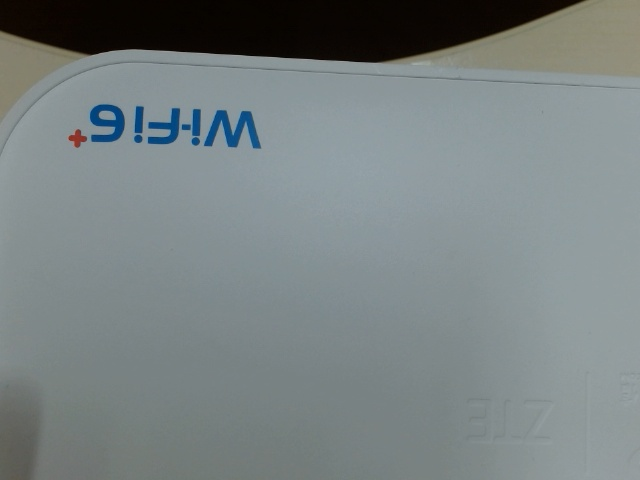AJ_ZTEWIFI6Plus: (55, 93, 269, 161)
